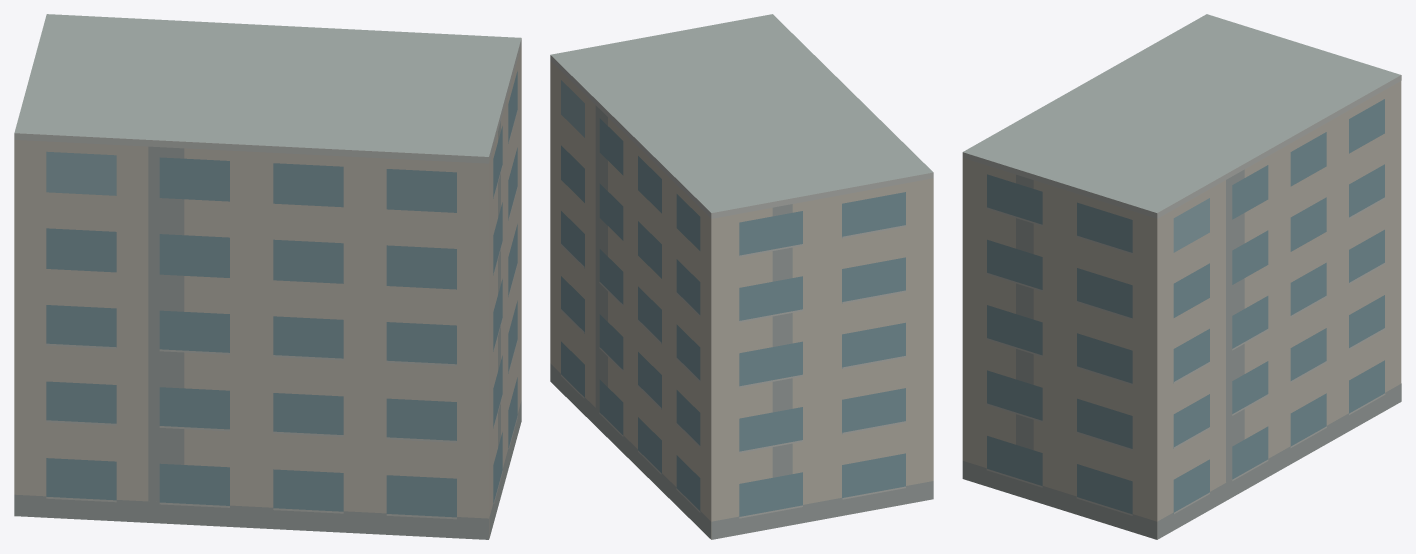
The model's file is survey-upis-32797644.glb.
3 renders of one model, left to right at view 1: azimuth 30°, elevation 25°; view 2: azimuth 150°, elevation 25°; view 3: azimuth 270°, elevation 25°, orthographic. The views are drawn at different scales.
Visible parts, largest first — view 1: survey-upis-32797644.tmp; view 2: survey-upis-32797644.tmp; view 3: survey-upis-32797644.tmp.
Boxes of the visible parts, box(x1,y1,x2,y2) form: survey-upis-32797644.tmp: box(14, 14, 521, 539); survey-upis-32797644.tmp: box(550, 14, 933, 539); survey-upis-32797644.tmp: box(962, 14, 1401, 539).
Size of the model in its own units: 18.31 by 14 by 17.05.
